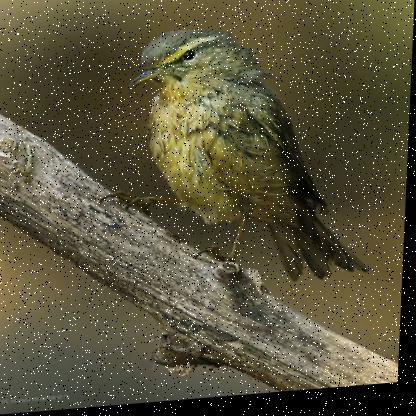Burung: (112, 20, 383, 318)
